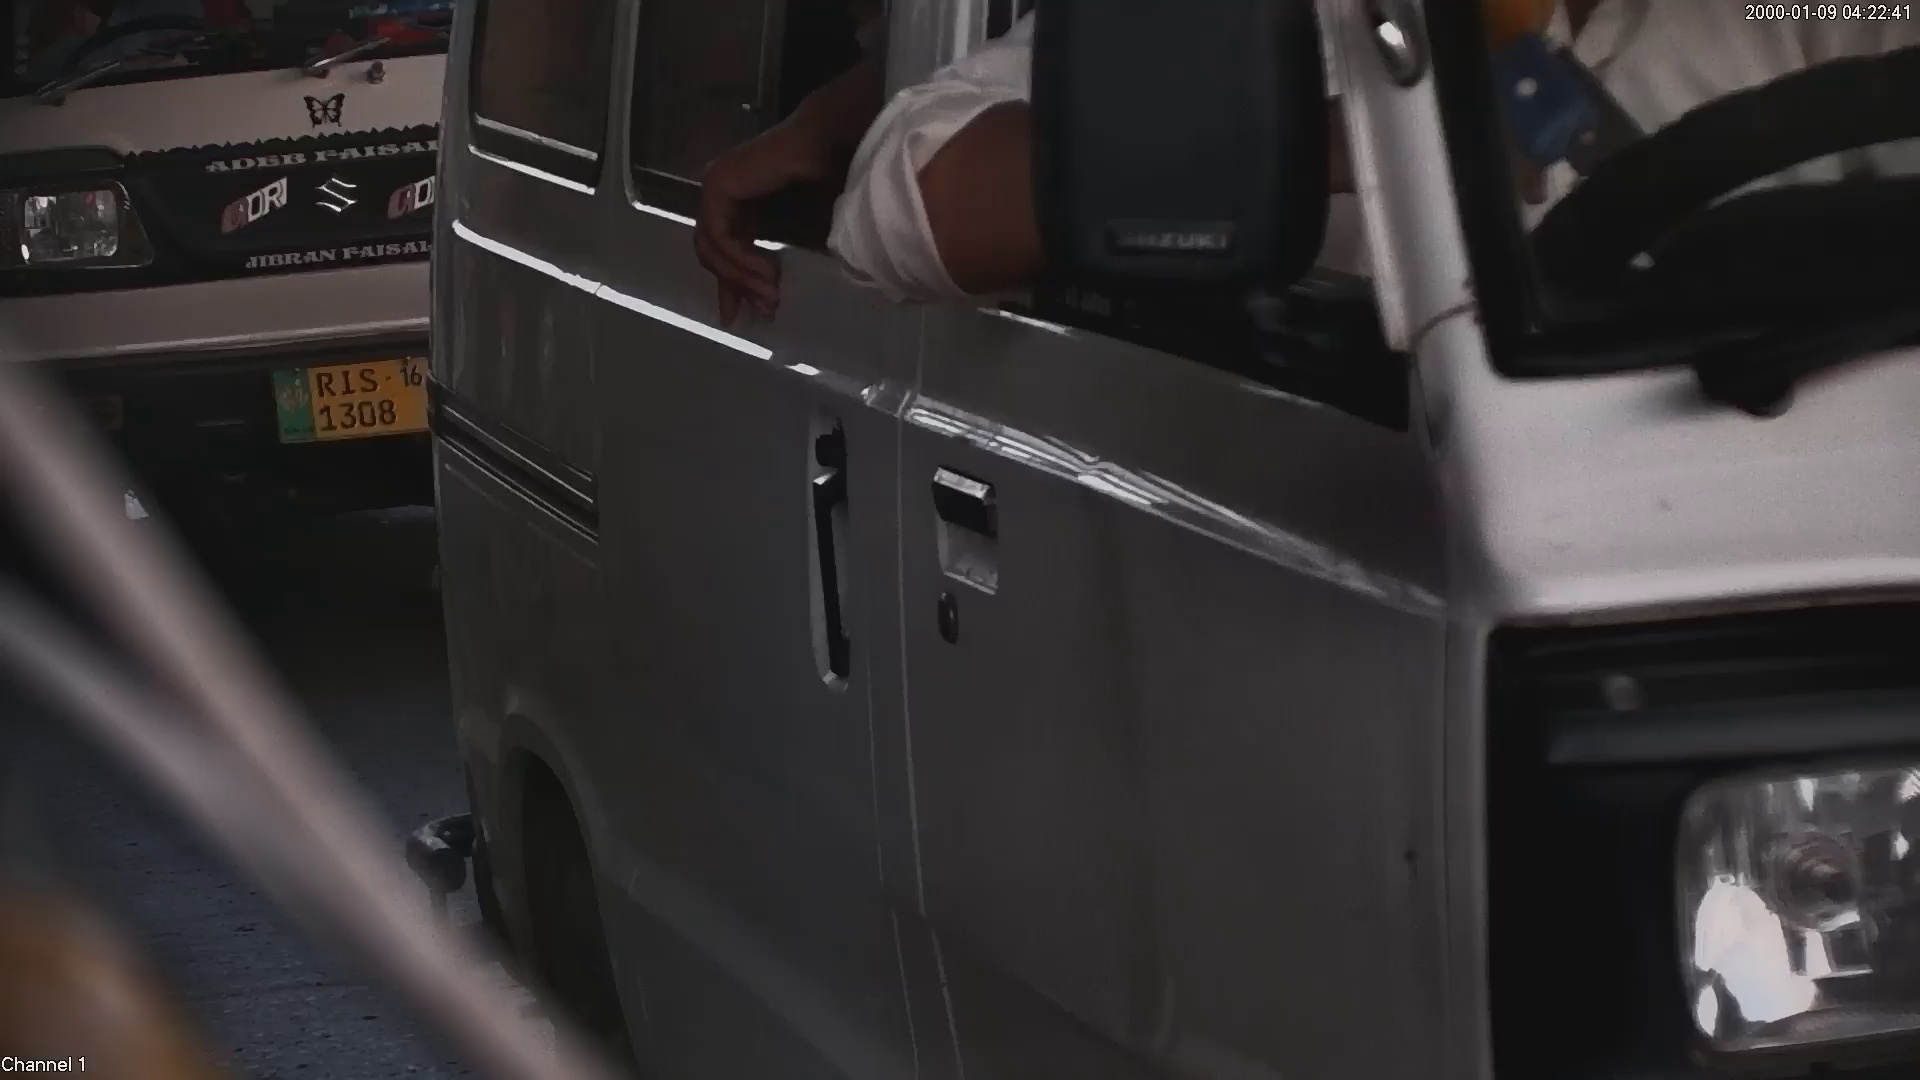Number_Plate: (256, 351, 419, 444)
Undefined: (195, 146, 434, 264), (1, 175, 156, 277)
